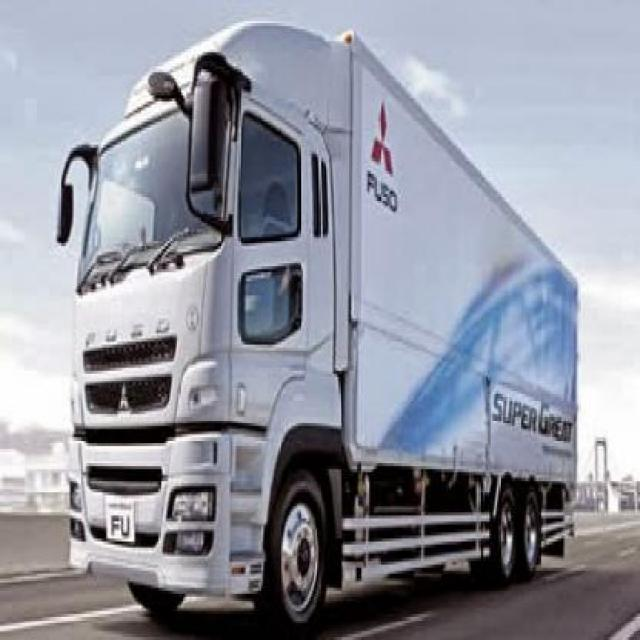truck: (54, 13, 579, 627)
